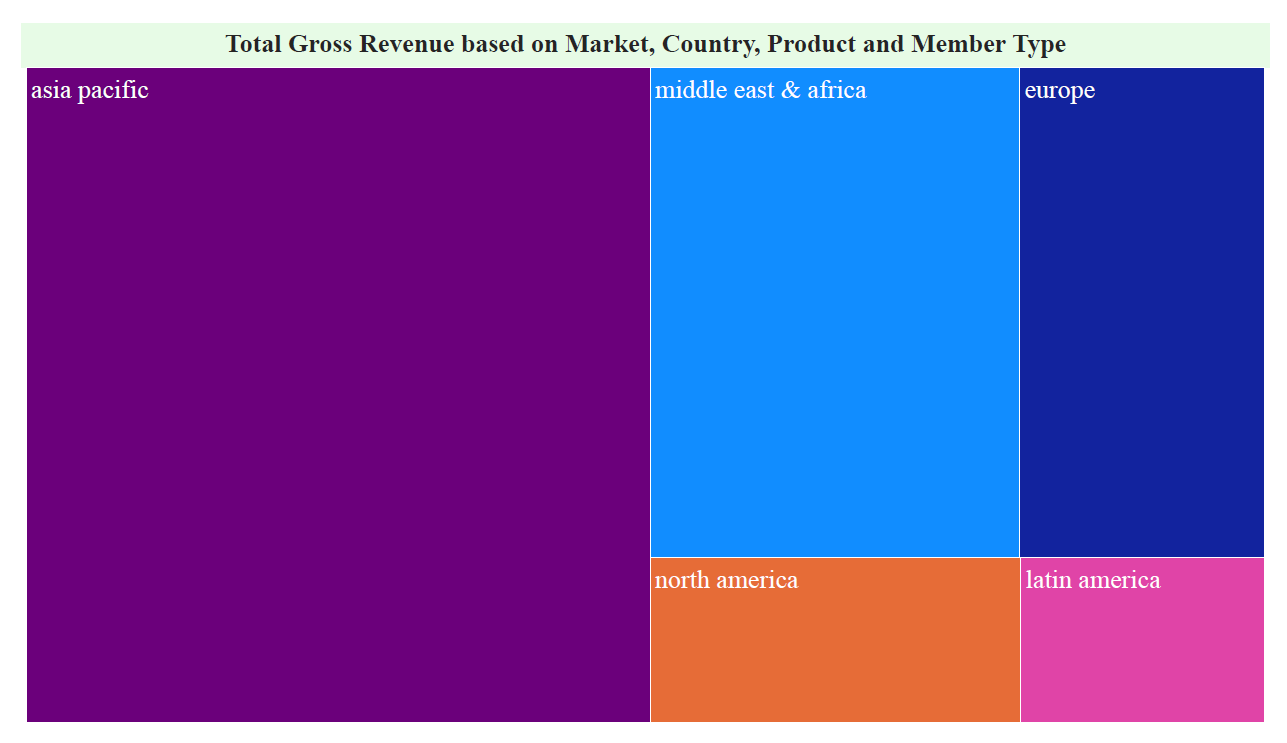

The dashboard page shown, as its layout file describes it:
{"tool":"powerbi","page":{"name":"Market Analysis","canvas":[1280,720],"ordinal":3},"visuals":[{"type":"treemap","title":"Total Gross Revenue based on Market, Country, Product and Member Type","fields":{"Group":["country.market","country.country","productdata.product","member data.member type "],"Values":["Sum(orderdata.grossRevenue)"]},"box":[0,0,1280.4,720.5],"z":0}]}

Visuals, with their boxes in screenshot pixels (x1, y1, x2, y2), scaled from the page's 1280x720 canvas onto the 1287x743 screenshot:
"Total Gross Revenue based on Market, Country, Product and Member Type" treemap: crop(0, 0, 1286, 742)
